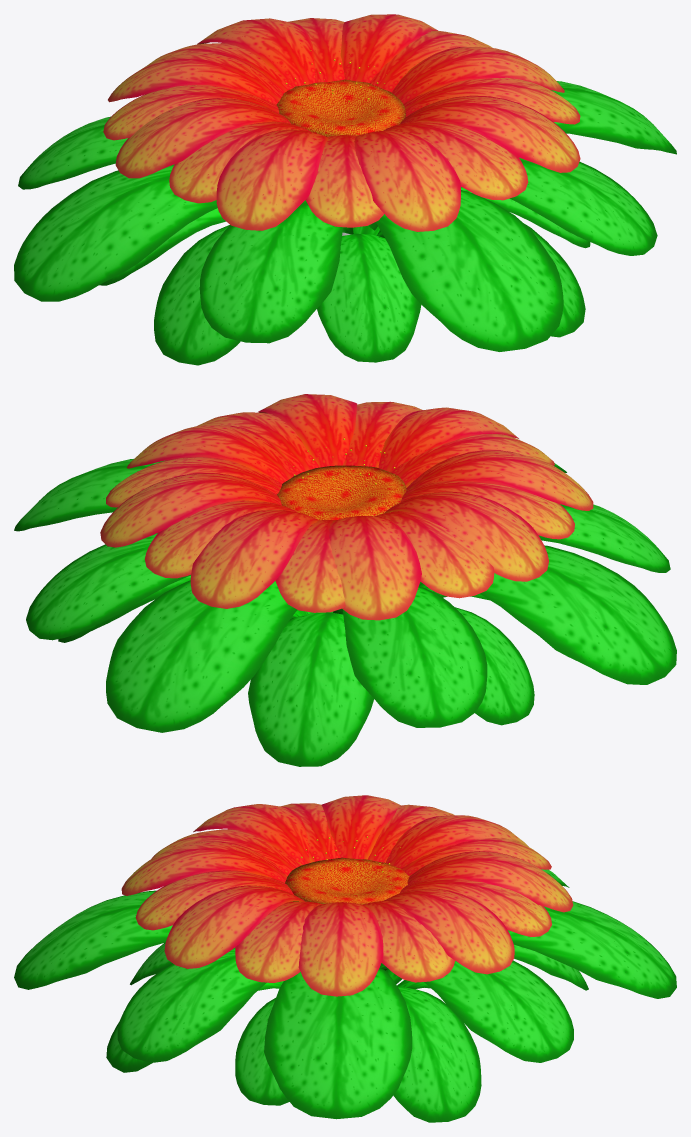
The model's file is golbarg.fbx.
3 renders of one model, top to bottom at view 1: azimuth 30°, elevation 25°; view 2: azimuth 150°, elevation 25°; view 3: azimuth 270°, elevation 25°, orthographic. The views are drawn at different scales.
Parts seen in each view (by area): view 1: Plane033, Plane032, Plane031, Plane049, Plane037, Plane035, Plane028, Plane038, Plane036, Plane045, Sphere002, Plane020 (+16 smaller); view 2: Plane019, Plane032, Plane034, Plane046, Plane024, Plane040, Plane039, Plane038, Plane041, Sphere002, Plane037, Plane030 (+14 smaller); view 3: Plane026, Plane028, Plane024, Plane043, Plane019, Plane033, Plane042, Plane036, Plane041, Sphere002, Plane040, Plane035 (+15 smaller).
Part boxes in pixels (x1=…): Plane033: x1=376, y1=190, x2=563, y2=351; Plane032: x1=14, y1=164, x2=305, y2=301; Plane031: x1=199, y1=200, x2=353, y2=343; Plane049: x1=317, y1=233, x2=421, y2=362; Plane037: x1=216, y1=129, x2=328, y2=230; Plane035: x1=354, y1=130, x2=460, y2=231; Plane028: x1=509, y1=157, x2=657, y2=255; Plane038: x1=115, y1=98, x2=290, y2=178; Plane036: x1=400, y1=95, x2=580, y2=172; Plane045: x1=154, y1=225, x2=240, y2=365; Sphere002: x1=276, y1=79, x2=405, y2=136; Plane020: x1=383, y1=121, x2=528, y2=200; Plane019: x1=106, y1=580, x2=297, y2=732; Plane032: x1=479, y1=545, x2=676, y2=684; Plane034: x1=333, y1=587, x2=487, y2=727; Plane046: x1=248, y1=612, x2=373, y2=766; Plane024: x1=26, y1=533, x2=190, y2=640; Plane040: x1=190, y1=510, x2=318, y2=608; Plane039: x1=328, y1=516, x2=421, y2=620; Plane038: x1=384, y1=491, x2=548, y2=581; Plane041: x1=100, y1=473, x2=281, y2=547; Sphere002: x1=276, y1=465, x2=406, y2=520; Plane037: x1=406, y1=450, x2=593, y2=510; Plane030: x1=375, y1=511, x2=494, y2=598; Plane026: x1=264, y1=967, x2=412, y2=1119; Plane028: x1=117, y1=947, x2=266, y2=1062; Plane024: x1=380, y1=960, x2=573, y2=1062; Plane043: x1=393, y1=986, x2=481, y2=1122; Plane019: x1=380, y1=901, x2=676, y2=998; Plane033: x1=14, y1=890, x2=172, y2=989; Plane042: x1=298, y1=902, x2=383, y2=996; Plane036: x1=164, y1=885, x2=304, y2=968; Plane041: x1=384, y1=888, x2=514, y2=974; Sphere002: x1=285, y1=857, x2=409, y2=904; Plane040: x1=407, y1=851, x2=573, y2=912; Plane035: x1=121, y1=841, x2=286, y2=895.
Size of the model in its own units: 103 by 31.17 by 102.
Materials: 4 (3 with a texture image).
